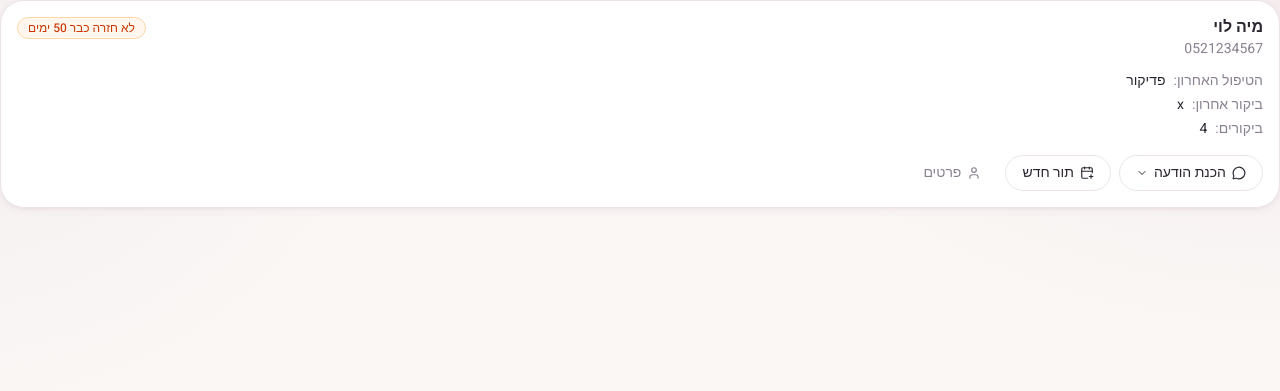
Test: RetentionClientCard — message preview & copy › toggles the message preview open and closed
This screenshot has width=1280, height=391.
Expected: the text "הודעה מוכנה לשליחה בוואטסאפ" is not shown
Click the button "הכנת הודעה" at (1191, 173), box left=1119, top=155, right=1263, bottom=191
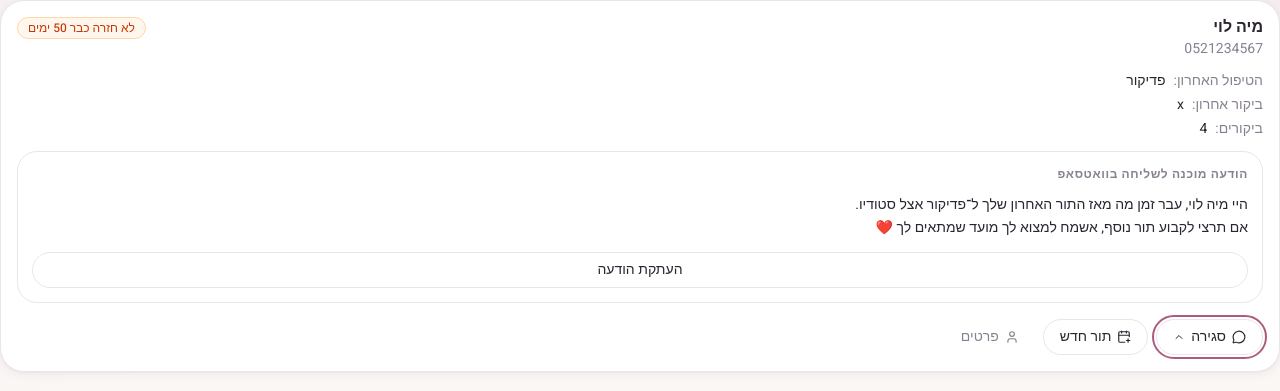
Result: the text "הודעה מוכנה לשליחה בוואטסאפ" is shown at left=1057, top=165, right=1248, bottom=183
Result: the text "עבר זמן מה מאז התור האחרון" is shown at left=855, top=194, right=1248, bottom=238
Click the button "סגירה" at (1210, 336), box left=1156, top=318, right=1263, bottom=354
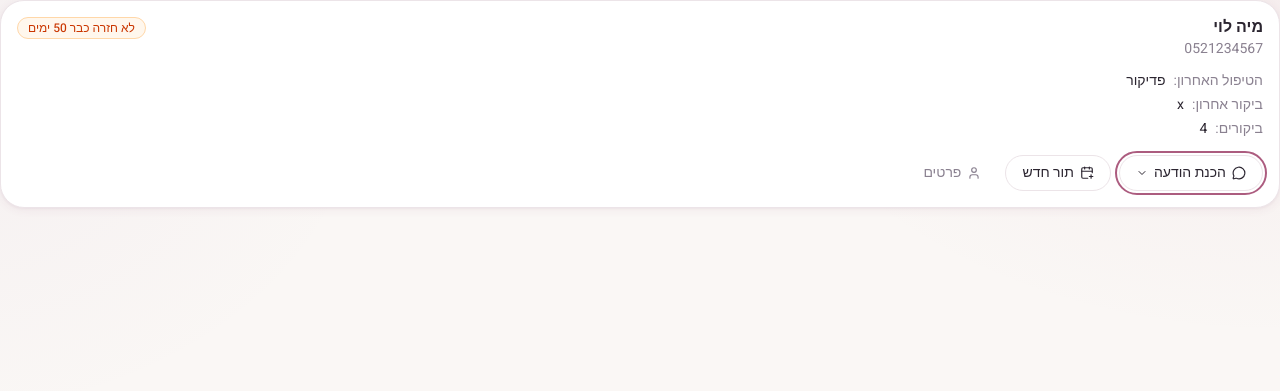
Result: the text "הודעה מוכנה לשליחה בוואטסאפ" is gone
